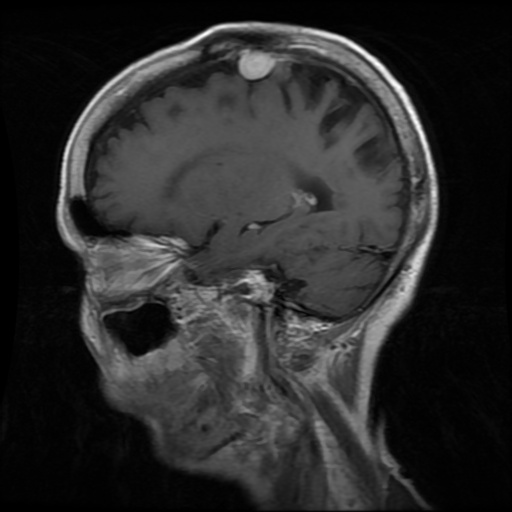meningioma: (237, 47, 276, 79)
